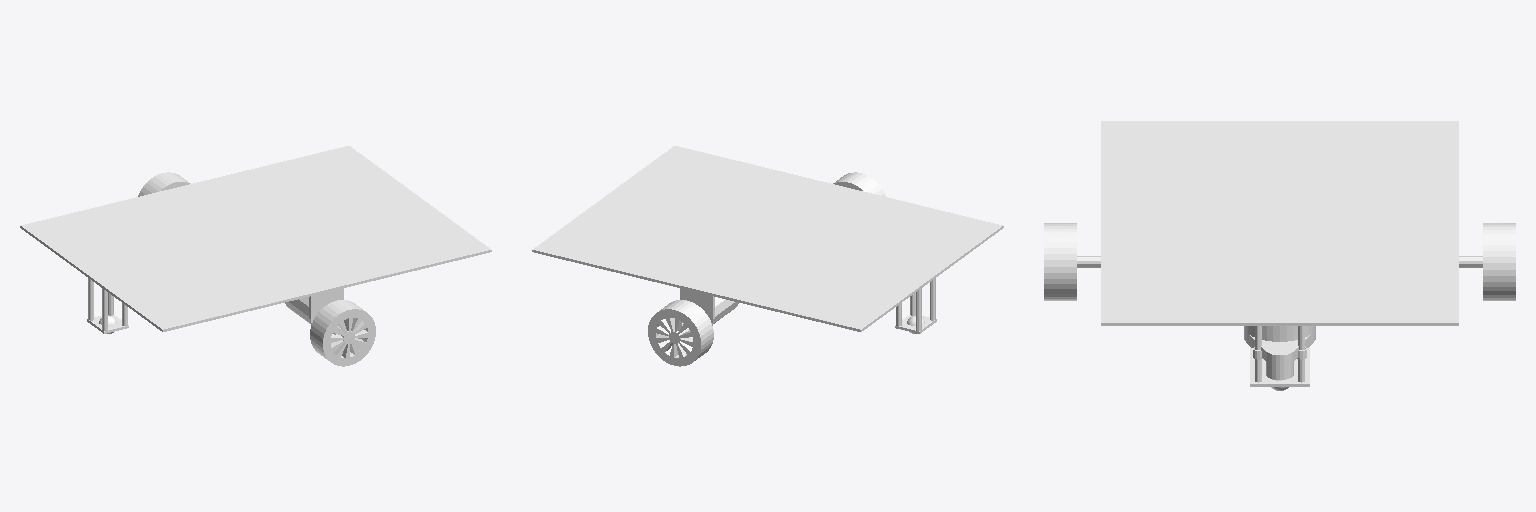
URDF robot description (dd_chassis_01_description):
<?xml version="1.0" encoding="utf-8"?>
<!-- This URDF was automatically created by SolidWorks to URDF Exporter! Originally created by
Stephen Brawner (brawner@gmail.com) 
     Commit Version: 1.6.0-4-g7f85cfe  Build Version: 1.6.7995.38578
     For more information, please see http://wiki.ros.org/sw_urdf_exporter -->
<robot
    name="dd_chassis_01_description">

    <link name="base_footprint" />

    <joint name="base_footprint_joint" type="fixed">
        <origin xyz="0 0 0.0665" rpy="0 0 0" />
        <parent link="base_footprint" />
        <child link="base_link" />
    </joint>

    <link
        name="base_link">
        <inertial>
            <origin
                xyz="0.00225643442430636 -3.84083228292811E-11 -0.00775518401120619"
                rpy="0 0 0" />
            <mass
                value="0.526954793781656" />
            <inertia
                ixx="0.00500714985145418"
                ixy="-2.6963929724647E-12"
                ixz="6.5119903813237E-05"
                iyy="0.00565174435626673"
                iyz="-8.29351874306313E-13"
                izz="0.0103982208977341" />
        </inertial>
        <visual>
            <origin
                xyz="0 0 0"
                rpy="0 0 0" />
            <geometry>
                <mesh
                    filename="package://dd_chassis_01_description/meshes/base_link.STL" />
            </geometry>
            <material
                name="">
                <color
                    rgba="1 1 1 1" />
            </material>
        </visual>
        <collision>
            <origin
                xyz="0 0 0"
                rpy="0 0 0" />
            <geometry>
                <mesh
                    filename="package://dd_chassis_01_description/meshes/base_link.STL" />
            </geometry>
        </collision>
    </link>
    <link
        name="ydlidar_link">
        <inertial>
            <origin
                xyz="0.00612113163111172 0.0116760548388481 -1.169115360589E-15"
                rpy="0 0 0" />
            <mass
                value="0.0936792550428074" />
            <inertia
                ixx="2.72585018191627E-05"
                ixy="7.13811165160373E-06"
                ixz="-1.52764527744402E-18"
                iyy="5.89984255634353E-05"
                iyz="4.45008735705321E-19"
                izz="4.76173774105997E-05" />
        </inertial>
        <visual>
            <origin
                xyz="0 0 0"
                rpy="0 0 0" />
            <geometry>
                <mesh
                    filename="package://dd_chassis_01_description/meshes/ydlidar_link.STL" />
            </geometry>
            <material
                name="">
                <color
                    rgba="1 1 1 1" />
            </material>
        </visual>
    </link>
    <joint
        name="ydlidar"
        type="fixed">
        <origin
            xyz="0.158 0 -0.0296"
            rpy="1.5708 0 0" />
        <parent
            link="base_link" />
        <child
            link="ydlidar_link" />
        <axis
            xyz="0 0 0" />
    </joint>

    <!-- 扫描面 link：真实 YDLIDAR 的测距基准面在雷达基座上方 18mm，
       而不是 ydlidar_link 原点（STL 双锥体的正中心）。
       单独建一个无质量 link，让 sensor 挂在这里，好处是：
       - TF 树里 lidar_scan_link 就代表真实扫描面，slam 建图精度正确
       - 不动 ydlidar_link 的位置，RViz 里的模型不会悬空
       fixed 关节会在 URDF->SDF 时被融合，不引入额外自由度。 -->
    <link name="lidar_scan_link" />

    <joint name="lidar_scan_joint" type="fixed">
        <!-- ydlidar joint 有 rpy="1.5708 0 0"（绕X+90°），所以 ydlidar_link 的
         +Y 才对应 base_link 的 +Z（向上）。要抬高扫描面 18mm 必须写 y。 -->
        <origin xyz="0 0.018 0" rpy="-1.5708 0 0" />
        <parent link="ydlidar_link" />
        <child link="lidar_scan_link" />
    </joint>
    <link
        name="wheel_l_link">
        <inertial>
            <origin
                xyz="0.0146359365211945 -3.46944695195361E-18 -3.46944695195361E-18"
                rpy="0 0 0" />
            <mass
                value="0.0564190770676561" />
            <inertia
                ixx="3.77293491814946E-05"
                ixy="2.5125245074898E-21"
                ixz="-2.88576369248561E-21"
                iyy="2.23688728763878E-05"
                iyz="1.6940658945086E-21"
                izz="2.23688728763877E-05" />
        </inertial>
        <visual>
            <origin
                xyz="0 0 0"
                rpy="0 0 0" />
            <geometry>
                <mesh
                    filename="package://dd_chassis_01_description/meshes/wheel_l_link.STL" />
            </geometry>
            <material
                name="">
                <color
                    rgba="1 1 1 1" />
            </material>
        </visual>
        <collision>
            <!-- 用 cylinder 而不是 mesh。
           Fortress 默认物理引擎是 DART，mesh-mesh 接触的摩擦和滚动
           表现不符合直觉，改 mu 几乎观察不到变化。
           尺寸取自 STL 实测：X 厚 0.027、Y/Z 直径 0.065 → 半径 0.0325。
           mesh 的 X 区间是 [0, 0.027]，中心在 0.0135，所以要偏 0.0135。
           rpy 0 1.5708 0 把 cylinder 默认的 Z 轴转到轮子的 X 轴。 -->
            <origin
                xyz="0.0135 0 0"
                rpy="0 1.5708 0" />
            <geometry>
                <!-- URDF 的 cylinder 用属性写法（不是 SDF 的子元素写法，
             写成子元素会被 sdformat 静默丢弃，collision 直接消失） -->
                <cylinder radius="0.0325" length="0.027" />
            </geometry>
        </collision>
    </link>
    <joint
        name="wheel_l"
        type="continuous">
        <origin
            xyz="0 0.17 -0.034"
            rpy="0 0 1.5708" />
        <parent
            link="base_link" />
        <child
            link="wheel_l_link" />
        <axis
            xyz="1 0 0" />
    </joint>
    <link
        name="wheel_r_link">
        <inertial>
            <origin
                xyz="0.0146359365211944 0 -3.46944695195361E-18"
                rpy="0 0 0" />
            <mass
                value="0.0564190770676561" />
            <inertia
                ixx="3.77293491814946E-05"
                ixy="-1.4276421590599E-21"
                ixz="-6.94944358670354E-22"
                iyy="2.23688728763877E-05"
                iyz="1.6940658945086E-21"
                izz="2.23688728763877E-05" />
        </inertial>
        <visual>
            <origin
                xyz="0 0 0"
                rpy="0 0 0" />
            <geometry>
                <mesh
                    filename="package://dd_chassis_01_description/meshes/wheel_r_link.STL" />
            </geometry>
            <material
                name="">
                <color
                    rgba="1 1 1 1" />
            </material>
        </visual>
        <collision>
            <!-- 同 wheel_l_link：用 cylinder 代替 mesh，便于稳定地调试摩擦。 -->
            <origin
                xyz="0.0135 0 0"
                rpy="0 1.5708 0" />
            <geometry>
                <!-- URDF 的 cylinder 用属性写法（不是 SDF 的子元素写法，
             写成子元素会被 sdformat 静默丢弃，collision 直接消失） -->
                <cylinder radius="0.0325" length="0.027" />
            </geometry>
        </collision>
    </link>
    <joint
        name="wheel_r"
        type="continuous">
        <origin
            xyz="0 -0.17 -0.034"
            rpy="0 0 -1.5708" />
        <parent
            link="base_link" />
        <child
            link="wheel_r_link" />
        <axis
            xyz="-1 0 0" />
    </joint>
    <link
        name="ball_wheel_f_link">
        <inertial>
            <origin
                xyz="0 -6.93889390390723E-18 -1.50510220113668E-18"
                rpy="0 0 0" />
            <mass
                value="0.00418879020478639" />
            <inertia
                ixx="1.67551608191456E-07"
                ixy="0"
                ixz="0"
                iyy="1.67551608191456E-07"
                iyz="0"
                izz="1.67551608191456E-07" />
        </inertial>
        <visual>
            <origin
                xyz="0 0 0"
                rpy="0 0 0" />
            <geometry>
                <mesh
                    filename="package://dd_chassis_01_description/meshes/ball_wheel_f_link.STL" />
            </geometry>
            <material
                name="">
                <color
                    rgba="1 1 1 1" />
            </material>
        </visual>
        <collision>
            <origin
                xyz="0 0 0"
                rpy="0 0 0" />
            <geometry>
                <sphere radius="0.01" />
            </geometry>
        </collision>
    </link>
    <joint
        name="ball_wheel_f"
        type="fixed">
        <origin
            xyz="0.184 0 -0.0565"
            rpy="1.5708 0 0" />
        <parent
            link="base_link" />
        <child
            link="ball_wheel_f_link" />
        <axis
            xyz="0 0 0" />
    </joint>
    <link
        name="ball_wheel_b_link">
        <inertial>
            <origin
                xyz="0 -6.93889390390723E-18 2.29621274840129E-19"
                rpy="0 0 0" />
            <mass
                value="0.00418879020478639" />
            <inertia
                ixx="1.67551608191456E-07"
                ixy="0"
                ixz="0"
                iyy="1.67551608191456E-07"
                iyz="0"
                izz="1.67551608191456E-07" />
        </inertial>
        <visual>
            <origin
                xyz="0 0 0"
                rpy="0 0 0" />
            <geometry>
                <mesh
                    filename="package://dd_chassis_01_description/meshes/ball_wheel_b_link.STL" />
            </geometry>
            <material
                name="">
                <color
                    rgba="1 1 1 1" />
            </material>
        </visual>
        <collision>
            <origin
                xyz="0 0 0"
                rpy="0 0 0" />
            <geometry>
                <sphere radius="0.01" />
            </geometry>
        </collision>
    </link>
    <joint
        name="ball_wheel_b"
        type="fixed">
        <origin
            xyz="-0.18 0 -0.0565"
            rpy="1.5708 0 0" />
        <parent
            link="base_link" />
        <child
            link="ball_wheel_b_link" />
        <axis
            xyz="0 0 0" />
    </joint>

    <gazebo>
        <plugin filename="ign_ros2_control-system"
            name="ign_ros2_control::IgnitionROS2ControlPlugin">
            <!-- ⚠️ 你的 launch 是直接 open(urdf).read() 后交给 ros_gz_sim create，
           所以 $(find ...) 不会被展开（那是 xacro 的语法）。
           这里必须写 install 下的绝对路径，或者把 URDF 改成 xacro。 -->
            <parameters>
                /home/u22/MyWork/robot/ros2/ChassisNav_02_u22_wsl/install/dd_chassis_01_description/share/dd_chassis_01_description/config/controllers.yaml</parameters>
        </plugin>
    </gazebo>

    <gazebo reference="ball_wheel_f_link">
        <mu1>0.001</mu1>
        <mu2>0.001</mu2>
        <kp>10000</kp>
        <kd>150</kd>
    </gazebo>
    <gazebo reference="ball_wheel_b_link">
        <mu1>0.001</mu1>
        <mu2>0.001</mu2>
        <kp>10000</kp>
        <kd>150</kd>
    </gazebo>
    <gazebo reference="wheel_l_link">
        <!-- 必须显式写 kp/kd。不写时 SDF 里是空的 <ode/>，即默认 kp=1e12，
         比球轮的 1e4 硬 1 亿倍。两类轮子刚度差这么多会让求解器在接触
         方向上来回跳变，实测表现为"左转时两轮同向、车身不转"。
         这里与球轮取同一个量级。 -->
        <mu1>1.0</mu1>
        <mu2>0.5</mu2>
        <kp>10000</kp>
        <kd>150</kd>
    </gazebo>
    <gazebo reference="wheel_r_link">
        <!-- 必须显式写 kp/kd。不写时 SDF 里是空的 <ode/>，即默认 kp=1e12，
         比球轮的 1e4 硬 1 亿倍。两类轮子刚度差这么多会让求解器在接触
         方向上来回跳变，实测表现为"左转时两轮同向、车身不转"。
         这里与球轮取同一个量级。 -->
        <mu1>1.0</mu1>
        <mu2>0.5</mu2>
        <kp>10000</kp>
        <kd>150</kd>
    </gazebo>
    <!-- ================= 2D 激光雷达 =================
       要点（Fortress 6.18 + ogre2 实测）：
       1. type 用 gpu_lidar / 块名用 <lidar>：sdformat 明确写 gpu_ray/<ray>
          与 gpu_lidar/<lidar> 等价，但前者将被废弃。
       2. 不需要 <pose>，默认与 ydlidar_link 重合。
       3. 不需要 <vertical>：省略时 gz 使用默认单层（samples=1, min=max=0），
          就是水平扫描。
       4. visibility_mask 把地面 visual 排除出射线求交。
          原因：雷达离地仅 3.69cm，gpu_lidar 靠渲染深度图求交，掠射角下
          约 0.4° 的等效误差会被放大成 d = 0.0369/sin(0.4°) ≈ 5.3m 的
          虚假命中，表现为一圈约 10m×10m、跟随车体移动的“方形假墙”。
          实测把地面 visual 降低 2cm，假墙点数就从 0 跳到 224，可确认来源。
          world 里地面 visual 打了 visibility_flags=2（bit1），这里把 bit1
          清掉（0xFFFFFFFF & ~2 = 4294967293）；其它物体默认 flags 全 1，
          照常可见。物理 collision 不受影响，小车不会掉下去。
       5. ydlidar_link 故意不写 <collision>：避免雷达与车体/地面产生物理接触。
       6. sensor 挂在 lidar_scan_link 上，代表真实 YDLIDAR 的测距基准面。
          ydlidar joint 带 rpy="1.5708 0 0"，ydlidar_link 的 +Y 才朝上，
          所以抬高量写在 lidar_scan_joint 的 y 上（0.018）。
          离地高度 = 0.0665(base_link) - 0.0296(ydlidar joint) + 0.018 = 0.0549m。 -->
    <gazebo reference="lidar_scan_link">
        <sensor name="lidar" type="gpu_lidar">
            <always_on>true</always_on>
            <visualize>true</visualize>
            <update_rate>10</update_rate>
            <topic>scan</topic>
            <gz_frame_id>lidar_scan_link</gz_frame_id>
            <lidar>
                <scan>
                    <horizontal>
                        <samples>360</samples>
                        <resolution>1</resolution>
                        <min_angle>-3.14159</min_angle>
                        <max_angle>3.14159</max_angle>
                    </horizontal>
                </scan>
                <range>
                    <min>0.10</min>
                    <max>20.0</max>
                    <resolution>0.01</resolution>
                </range>
                <noise>
                    <type>gaussian</type>
                    <mean>0.0</mean>
                    <stddev>0.01</stddev>
                </noise>
                <visibility_mask>4294967293</visibility_mask>
            </lidar>
        </sensor>
    </gazebo>
    <!-- IMU：装在车体中心，用 base_link 自身即可 -->
    <gazebo reference="base_link">
        <!-- 车体点不在 Gazebo 侧屏蔽。
         虽然可以用 <visual><visibility_flags> 配合雷达的 visibility_mask
         在仿真里精确去掉车体（求交的是 visual，确实可行），但真机没有
         这套机制，必须在 ROS 侧用 laser_filters 过滤。
         为了仿真和真机走同一条数据链路（同样的过滤节点、同样的参数），
         这里保持车体 visual 默认可见。 -->
        <sensor name="imu_sensor" type="imu">
            <always_on>true</always_on>
            <update_rate>100</update_rate>
            <topic>imu</topic>
            <gz_frame_id>base_link</gz_frame_id>
            <imu>
                <angular_velocity>
                    <x>
                        <noise type="gaussian">
                            <mean>0</mean>
                            <stddev>0.0002</stddev>
                        </noise>
                    </x>
                    <y>
                        <noise type="gaussian">
                            <mean>0</mean>
                            <stddev>0.0002</stddev>
                        </noise>
                    </y>
                    <z>
                        <noise type="gaussian">
                            <mean>0</mean>
                            <stddev>0.0002</stddev>
                        </noise>
                    </z>
                </angular_velocity>
                <linear_acceleration>
                    <x>
                        <noise type="gaussian">
                            <mean>0</mean>
                            <stddev>0.0017</stddev>
                        </noise>
                    </x>
                    <y>
                        <noise type="gaussian">
                            <mean>0</mean>
                            <stddev>0.0017</stddev>
                        </noise>
                    </y>
                    <z>
                        <noise type="gaussian">
                            <mean>0</mean>
                            <stddev>0.0017</stddev>
                        </noise>
                    </z>
                </linear_acceleration>
            </imu>
        </sensor>
    </gazebo>
    <!-- ============ ros2_control：把两个驱动轮交给控制器管理 ============ -->
    <ros2_control name="IgnitionSystem" type="system">
        <hardware>
            <plugin>ign_ros2_control/IgnitionSystem</plugin>
        </hardware>

        <joint name="wheel_l">
            <command_interface name="velocity" />
            <state_interface name="position" />
            <state_interface name="velocity" />
        </joint>

        <joint name="wheel_r">
            <command_interface name="velocity" />
            <state_interface name="position" />
            <state_interface name="velocity" />
        </joint>
    </ros2_control>
</robot>

--- What the picture shows (computed from the rendered views, not written in the file) ---
3 views of the same robot in one strip: view 1: azimuth 30°, elevation 25°; view 2: azimuth 150°, elevation 25°; view 3: azimuth 270°, elevation 25° (orthographic).
Robot: dd_chassis_01_description — 8 links, 7 joints (2 continuous, 5 fixed); root link base_footprint; default pose: every joint at zero.
Links seen in each view (by area): view 1: base_link, wheel_r_link, wheel_l_link; view 2: base_link, wheel_l_link, wheel_r_link; view 3: base_link, wheel_l_link, wheel_r_link, ydlidar_link.
Link boxes in pixels (bbox=[...]): base_link: bbox=[20, 146, 491, 333]; wheel_r_link: bbox=[310, 300, 375, 366]; wheel_l_link: bbox=[138, 172, 190, 196]; base_link: bbox=[532, 146, 1003, 333]; wheel_l_link: bbox=[648, 300, 713, 366]; wheel_r_link: bbox=[833, 172, 885, 196]; base_link: bbox=[1077, 121, 1482, 386]; wheel_l_link: bbox=[1483, 223, 1515, 300]; wheel_r_link: bbox=[1044, 223, 1076, 300]; ydlidar_link: bbox=[1244, 326, 1315, 379].
Bounding box of the posed robot: 0.415 × 0.394 × 0.0695 m (x, y, z).
Meshes: 6 distinct files referenced, 6 mesh visuals loaded (6 binary STL).
